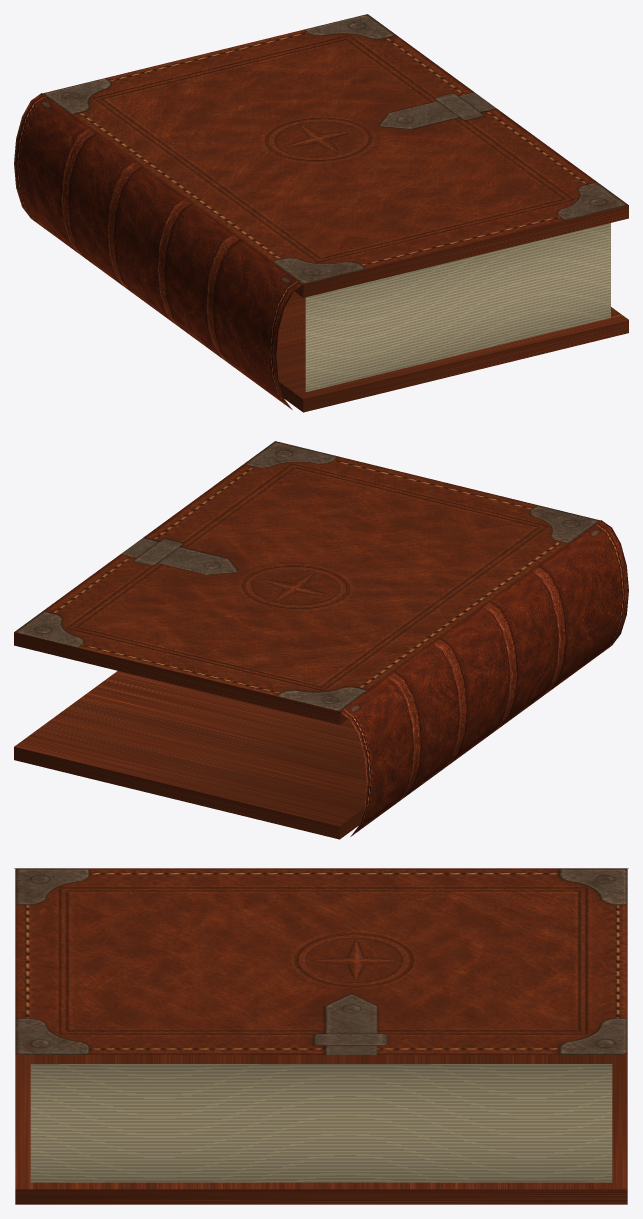
File: item_mm9_spellbook_normal.glb
The picture shows the model from 3 angles, top to bottom: view 1: azimuth 30°, elevation 25°; view 2: azimuth 150°, elevation 25°; view 3: azimuth 270°, elevation 25°; orthographic projection. The views are drawn at different scales.
Parts seen in each view (by area): view 1: mm9_spellbook_normal; view 2: mm9_spellbook_normal; view 3: mm9_spellbook_normal.
Part boxes in pixels (x1=…): mm9_spellbook_normal: x1=14, y1=14, x2=628, y2=412; mm9_spellbook_normal: x1=14, y1=441, x2=628, y2=839; mm9_spellbook_normal: x1=14, y1=868, x2=628, y2=1204.
Bounding box in the file's own units: 0.7808 × 0.27 × 1.
1 material, 1 textured.
